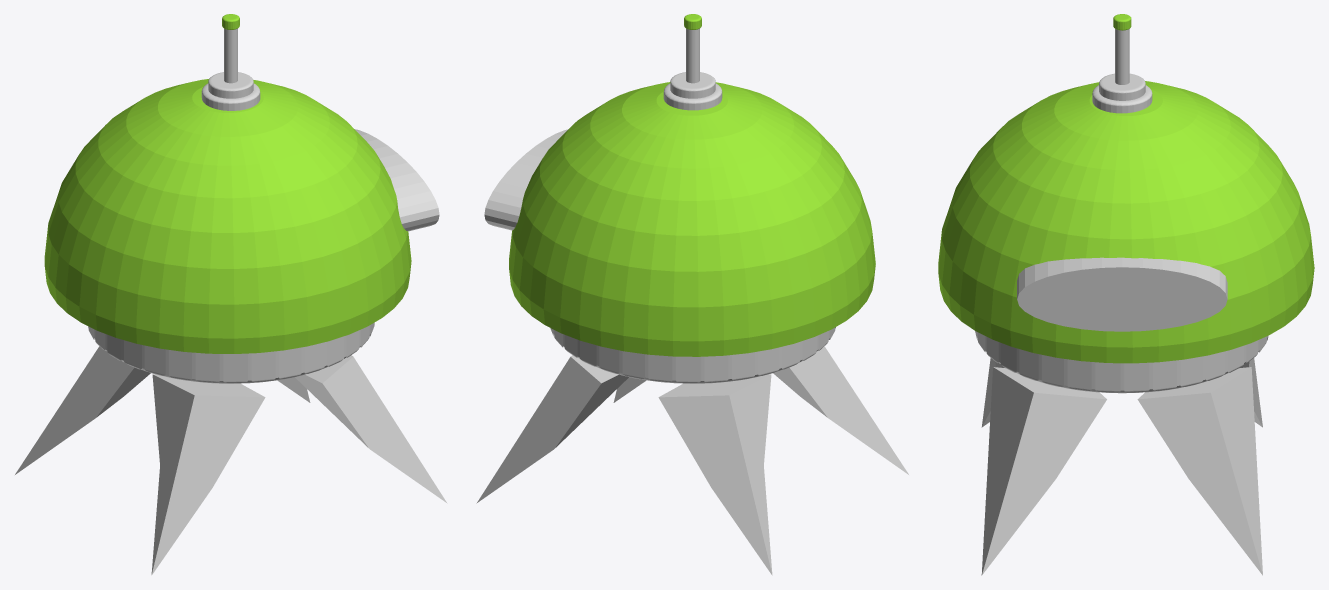
File: EnemySmall.fbx
The picture shows the model from 3 angles, left to right: view 1: azimuth 30°, elevation 25°; view 2: azimuth 150°, elevation 25°; view 3: azimuth 270°, elevation 25°; orthographic projection. The views are drawn at different scales.
Parts seen in each view (by area): view 1: Sphere.002, Cube.001, Cylinder, Cylinder.005, Cylinder.002, Cylinder.001, Cylinder.003; view 2: Sphere.002, Cube.001, Cylinder, Cylinder.005, Cylinder.002, Cylinder.001, Cylinder.003; view 3: Sphere.002, Cube.001, Cylinder.005, Cylinder, Cylinder.002, Cylinder.001, Cylinder.003.
Part boxes in pixels (box(x1,y1,x2,y2)): Sphere.002: box(44, 79, 411, 353); Cube.001: box(15, 346, 447, 575); Cylinder: box(88, 322, 374, 383); Cylinder.005: box(354, 129, 439, 231); Cylinder.002: box(208, 72, 253, 98); Cylinder.001: box(201, 83, 260, 110); Cylinder.003: box(224, 28, 237, 83); Sphere.002: box(509, 82, 875, 356); Cube.001: box(476, 346, 908, 575); Cylinder: box(550, 327, 835, 383); Cylinder.005: box(484, 129, 567, 230); Cylinder.002: box(670, 72, 715, 98); Cylinder.001: box(663, 83, 722, 110); Cylinder.003: box(686, 28, 699, 83); Sphere.002: box(938, 81, 1314, 363); Cube.001: box(981, 358, 1262, 575); Cylinder.005: box(1017, 257, 1227, 331); Cylinder: box(975, 331, 1268, 393); Cylinder.002: box(1099, 73, 1145, 100); Cylinder.001: box(1092, 85, 1152, 113); Cylinder.003: box(1115, 29, 1129, 84).
Bounding box in the file's own units: 200 × 284 × 200.
